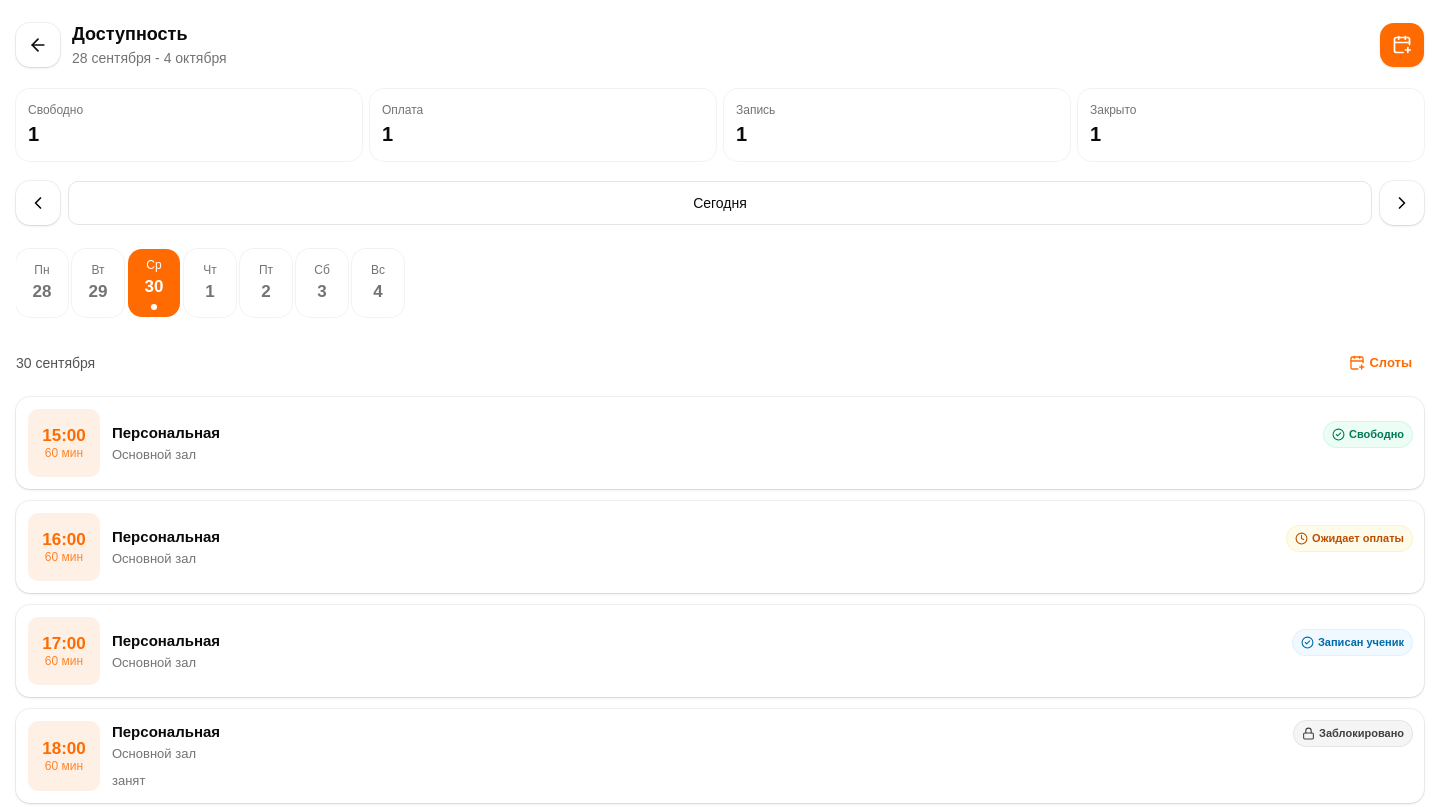
AvailabilityCalendar › keeps one sheet while a published slot moves through client search and a fixed booking form
Step 1. Click the 1st text "Персональная" → (166, 433), box [112,422,220,444]
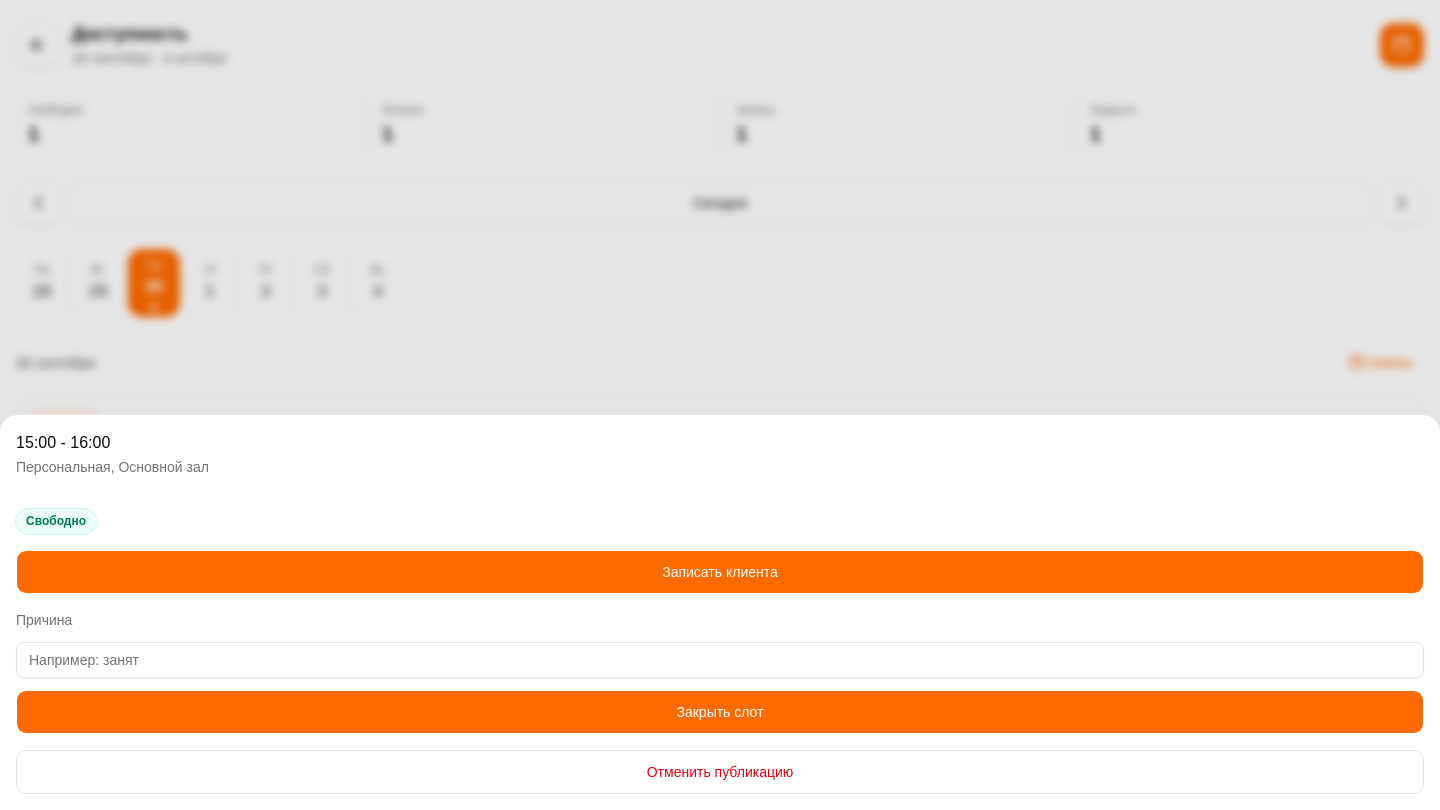
Step 2. Click the button "Записать клиента" → (720, 572), box [16,550,1424,594]
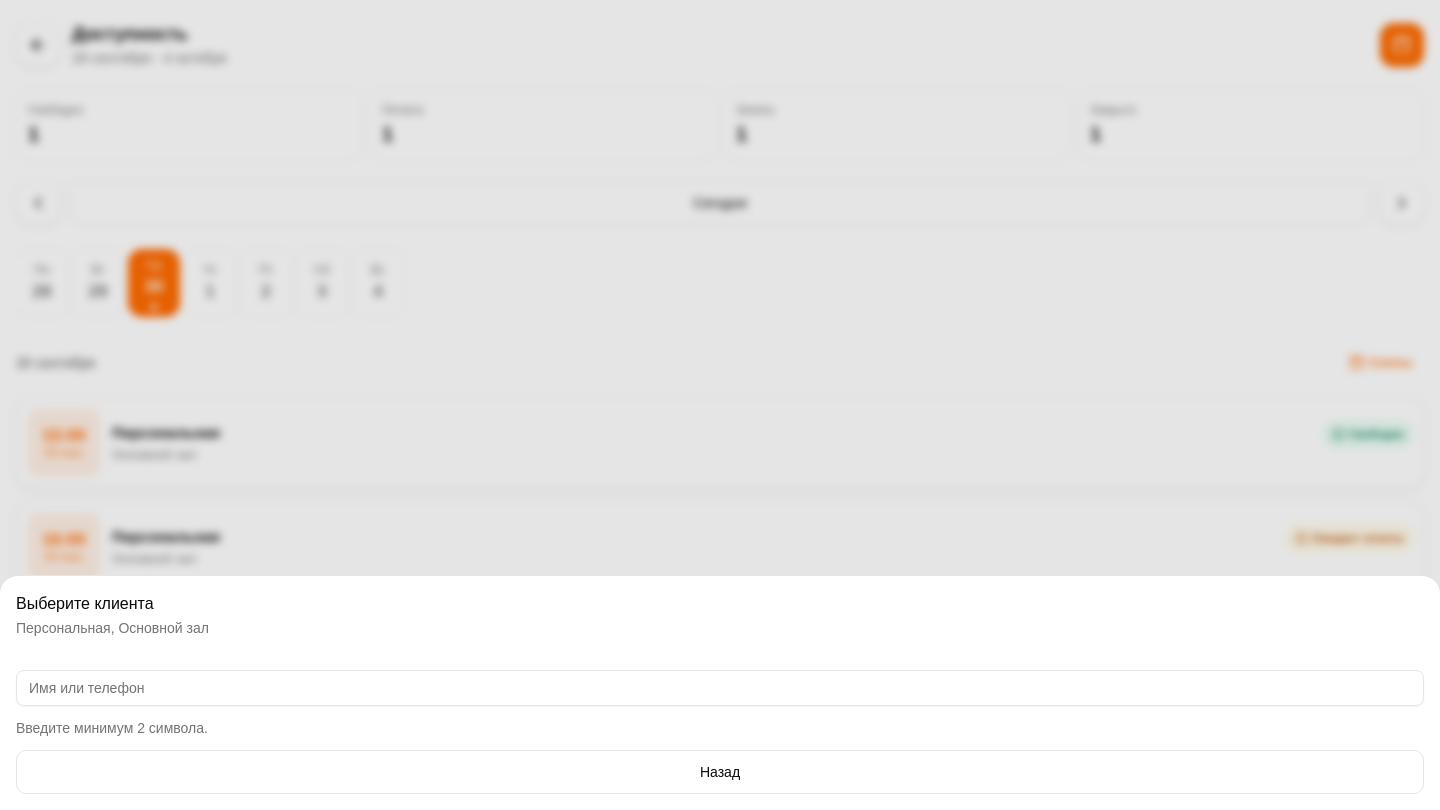
Expected: the number of dialogs is 1, [0,575,1439,809]
Step 3. Type "999 000" into the field named "Поиск клиента" → (720, 688), box [16,670,1424,706]
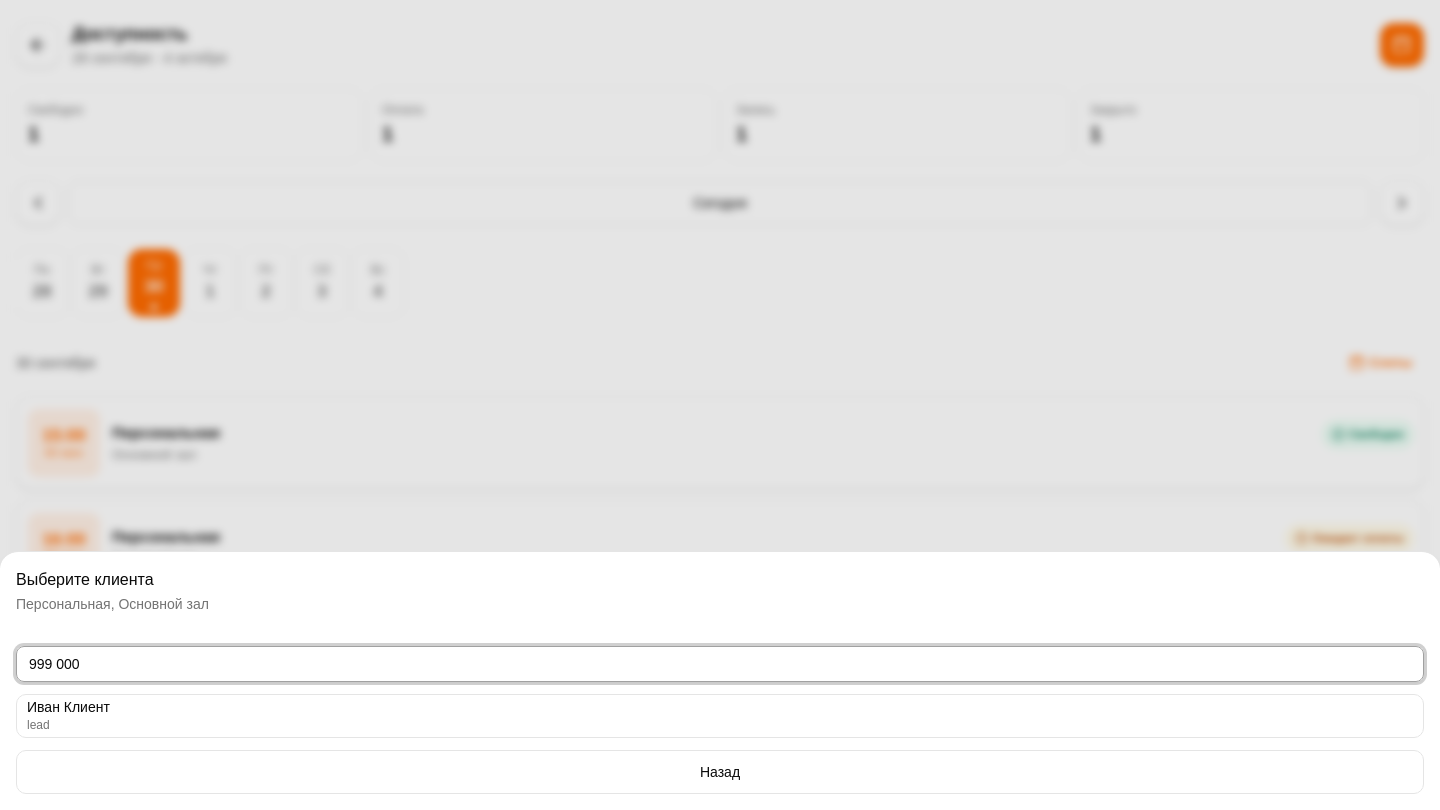
Step 4. Click the button "Иван Клиент lead" → (68, 707), box [16,694,1424,738]
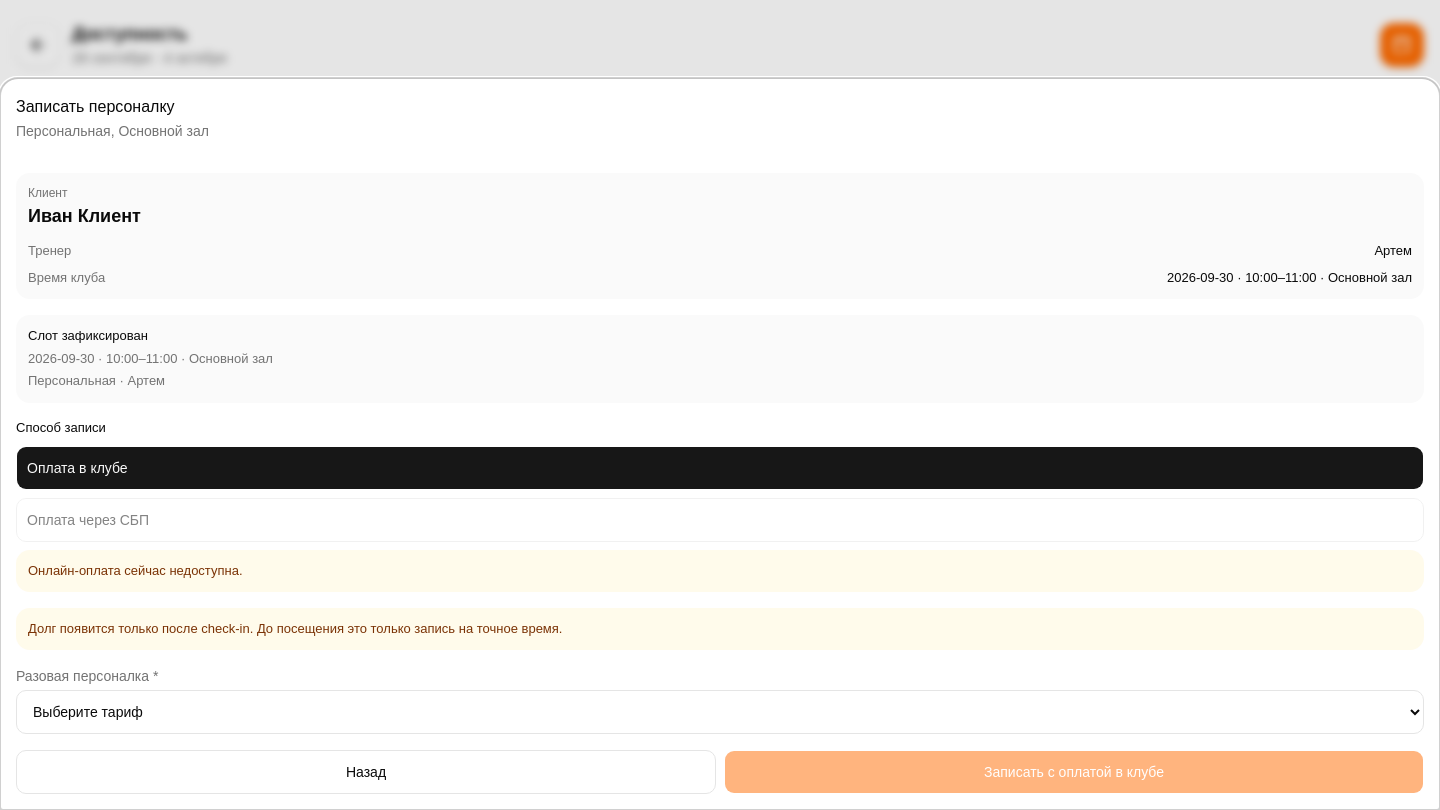
Expected: the number of dialogs is 1
Expected: the text "Слот зафиксирован" is shown, [28,328,148,343]
Expected: the text "2026-09-30 · 10:00–11:00 · Основной зал" next to "Время клуба" is shown, [1167,270,1412,285]
Step 5. Select "Разовая персоналка · 2 000 ₽" in the dropdown labelled "Разовая персоналка *" → (720, 712), box [16,690,1424,734]
(page scrolled)
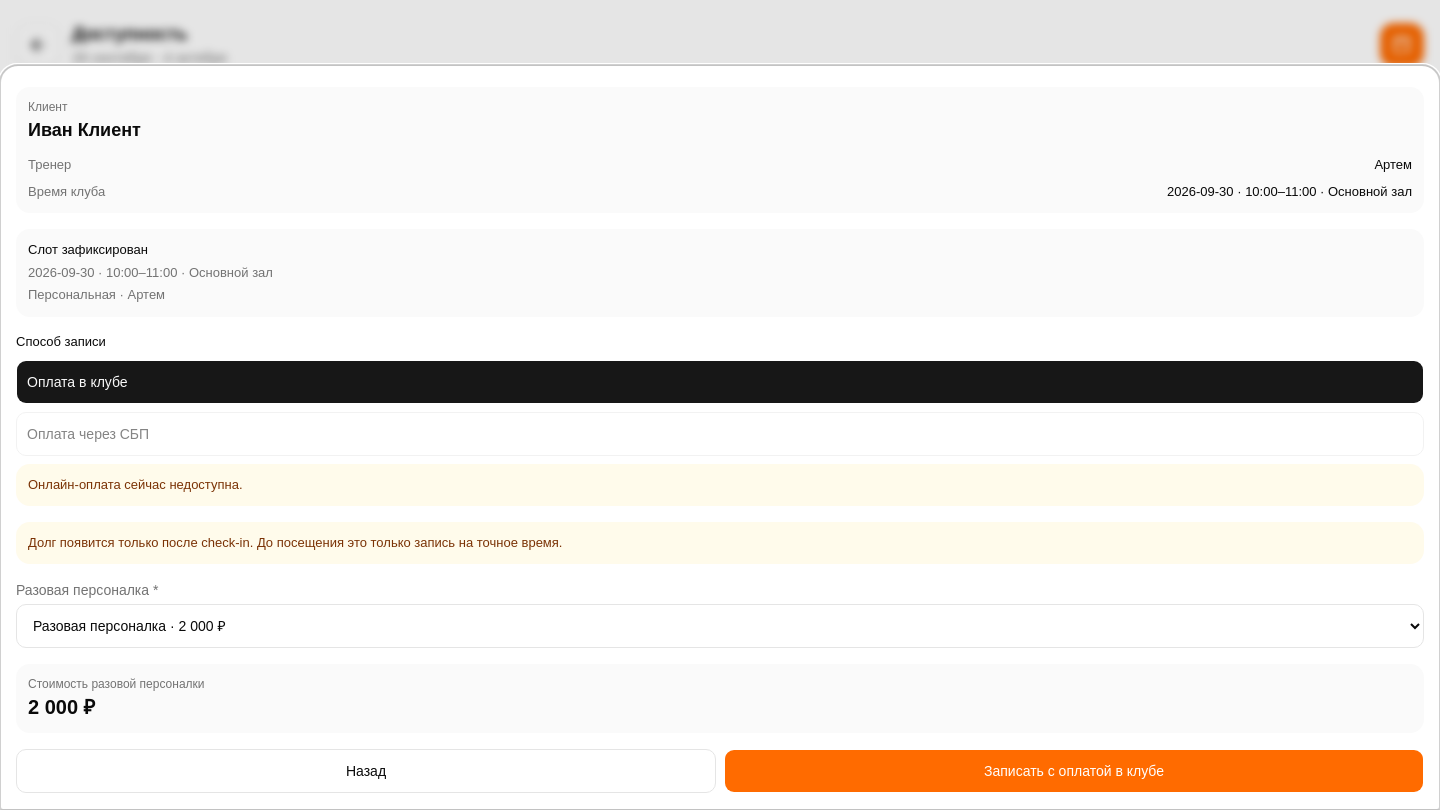
Step 6. Click the button "Записать с оплатой в клубе" → (1074, 772), box [724,750,1424,794]
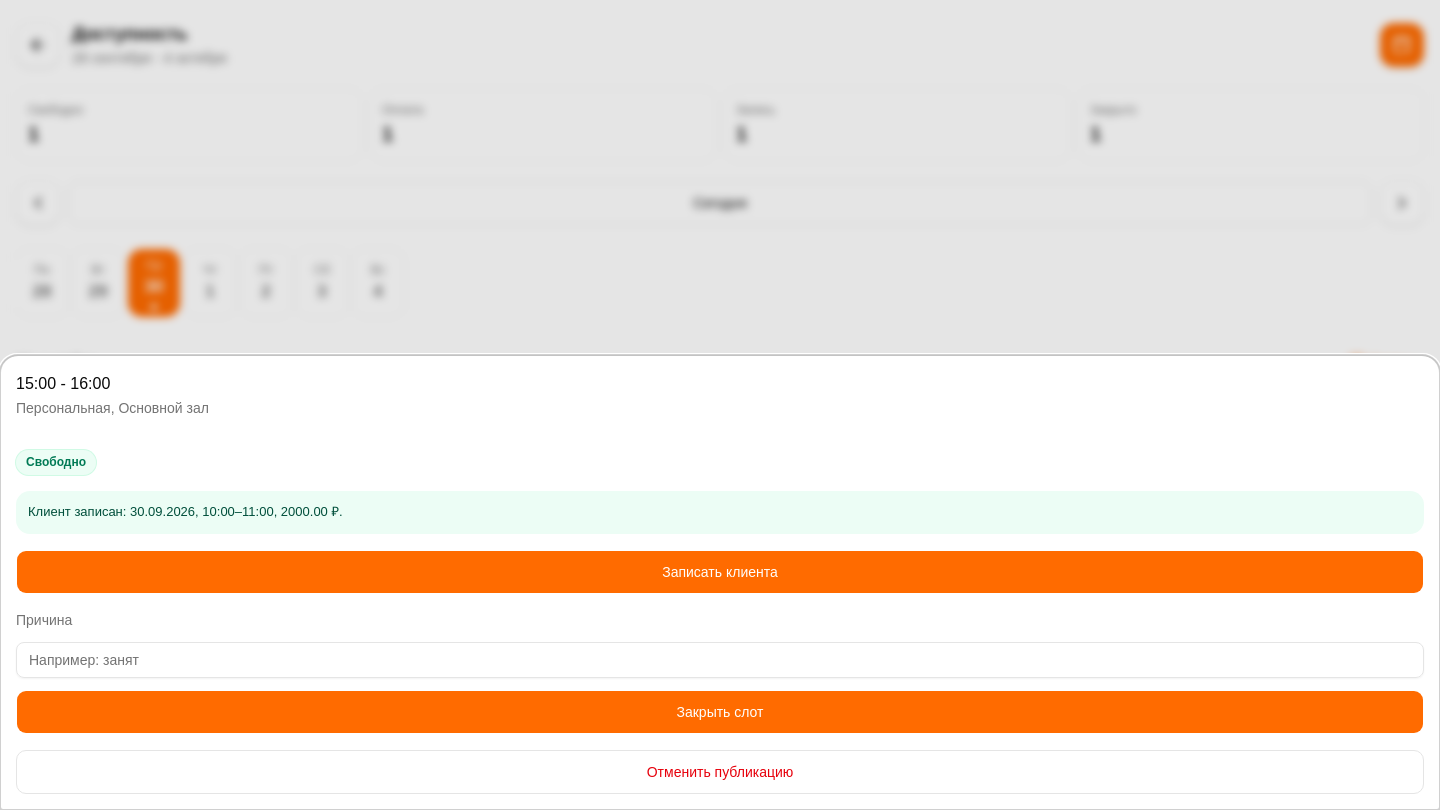
Expected: the number of dialogs is 1, [0,355,1439,809]
Expected: the text "Клиент записан: 30.09.2026, 10:00–11:00, 2000.00 ₽." is shown, [16,491,1424,534]
